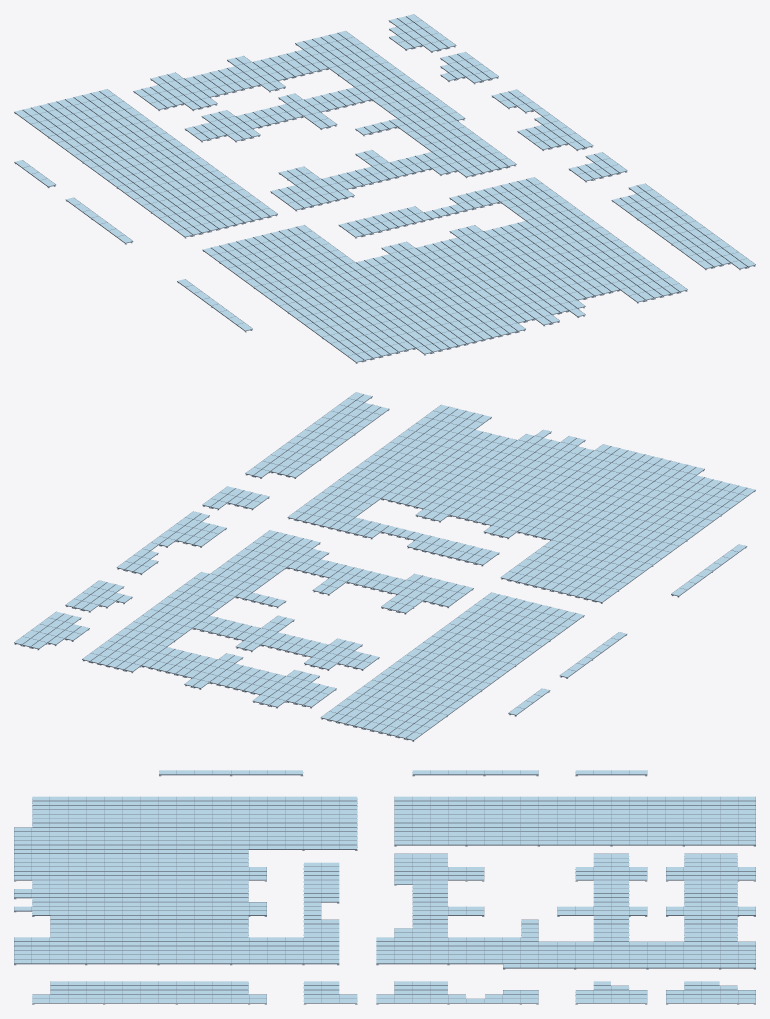
Rendered from SM_MPR4_SolarBank_01_0.fbx.
The picture shows the model from 3 angles, top to bottom: view 1: azimuth 30°, elevation 25°; view 2: azimuth 150°, elevation 25°; view 3: azimuth 270°, elevation 25°; orthographic projection. The views are drawn at different scales.
Visible parts, largest first — view 1: SM_MPR4_SolarBank_01_0; view 2: SM_MPR4_SolarBank_01_0; view 3: SM_MPR4_SolarBank_01_0.
Boxes of the visible parts, x1,y1,x2,y2 form: SM_MPR4_SolarBank_01_0: (14,14,755,363); SM_MPR4_SolarBank_01_0: (14,392,755,741); SM_MPR4_SolarBank_01_0: (14,770,755,1004).
Bounding box in the file's own units: 5929 × 7989 × 24.6.
